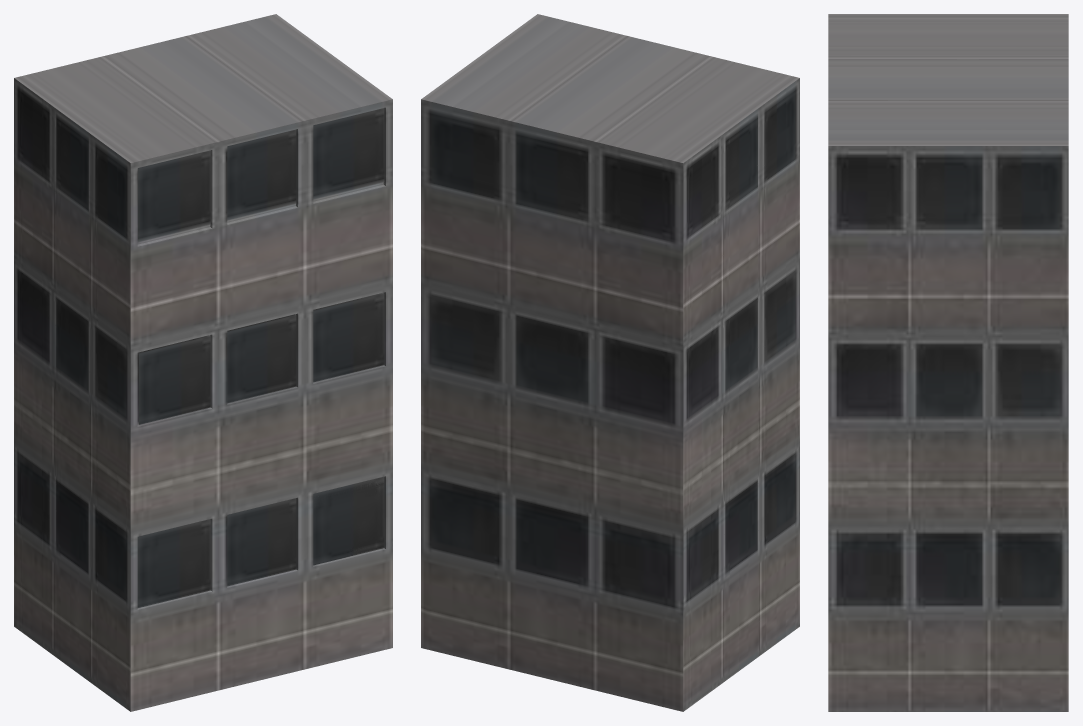
The model's file is xzl.gltf.
3 renders of one model, left to right at view 1: azimuth 30°, elevation 25°; view 2: azimuth 150°, elevation 25°; view 3: azimuth 270°, elevation 25°, orthographic. The views are drawn at different scales.
Visible parts, largest first — view 1: 平面, 窗户.002, 窗户.001, 窗户.009, 窗户, 窗户.004, 窗户.005, 窗户.003, 窗户.008, 窗户.006, 窗户.007; view 2: 平面; view 3: 平面.
Boxes of the visible parts, <box> form: 平面: <box>14,14,392,711</box>; 窗户.002: <box>138,150,210,241</box>; 窗户.001: <box>313,108,384,199</box>; 窗户.009: <box>137,519,210,607</box>; 窗户: <box>227,129,296,220</box>; 窗户.004: <box>313,293,384,382</box>; 窗户.005: <box>139,336,210,424</box>; 窗户.003: <box>227,315,296,403</box>; 窗户.008: <box>227,498,296,586</box>; 窗户.006: <box>313,479,382,565</box>; 窗户.007: <box>313,477,384,557</box>; 平面: <box>421,14,799,711</box>; 平面: <box>828,14,1068,711</box>.
Size of the model in its own units: 2 by 4 by 1.54.
11 materials, 11 textured.
